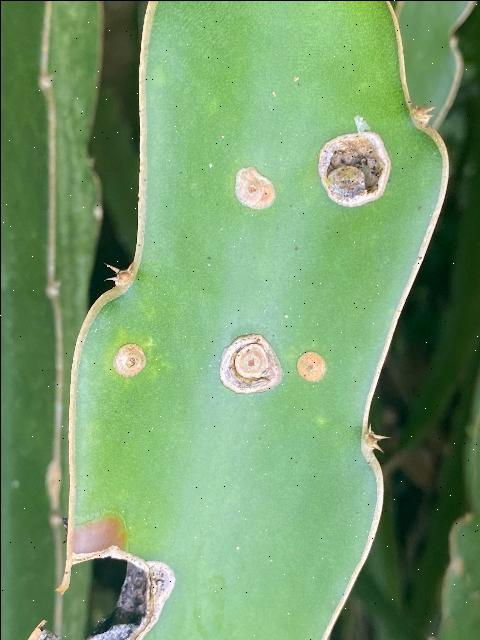stemcanker: (62, 511, 189, 640), (318, 125, 394, 213), (216, 329, 286, 398), (234, 165, 284, 215), (103, 337, 154, 383), (293, 345, 332, 385)
